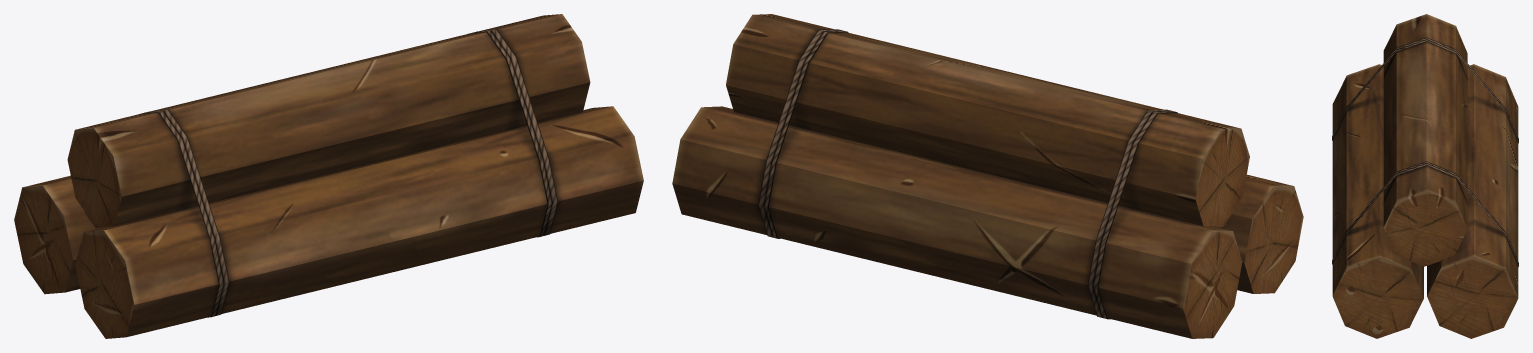
Rendered from modelLogBig.fbx.
3 views of the same model, side by side, from view 1: azimuth 30°, elevation 25°; view 2: azimuth 150°, elevation 25°; view 3: azimuth 270°, elevation 25° (orthographic). The views are drawn at different scales.
Parts seen in each view (by area): view 1: modelLogBig; view 2: modelLogBig; view 3: modelLogBig.
Part boxes in pixels (left/top/right/bottom): modelLogBig: left=14, top=14, right=643, bottom=338; modelLogBig: left=672, top=14, right=1303, bottom=338; modelLogBig: left=1332, top=14, right=1518, bottom=338.
Size of the model in its own units: 47.98 by 16.53 by 19.73.
